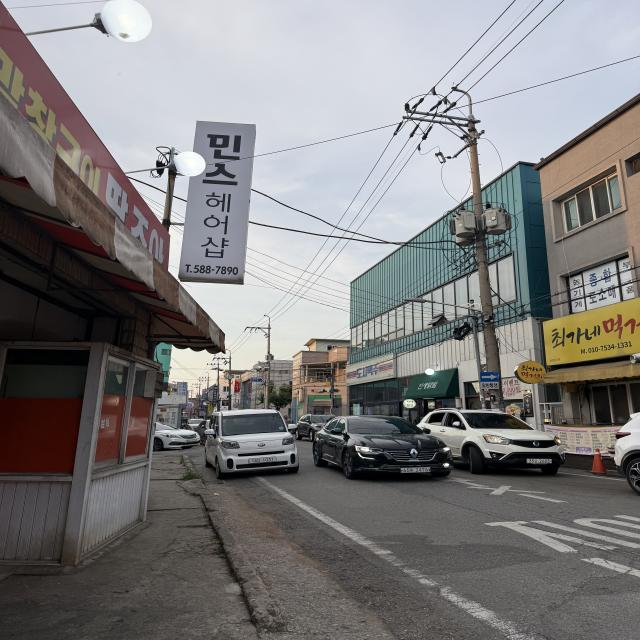car: (437, 407, 562, 475), (312, 412, 436, 478), (202, 408, 308, 476), (613, 404, 640, 496), (150, 421, 199, 451), (295, 413, 342, 443)
